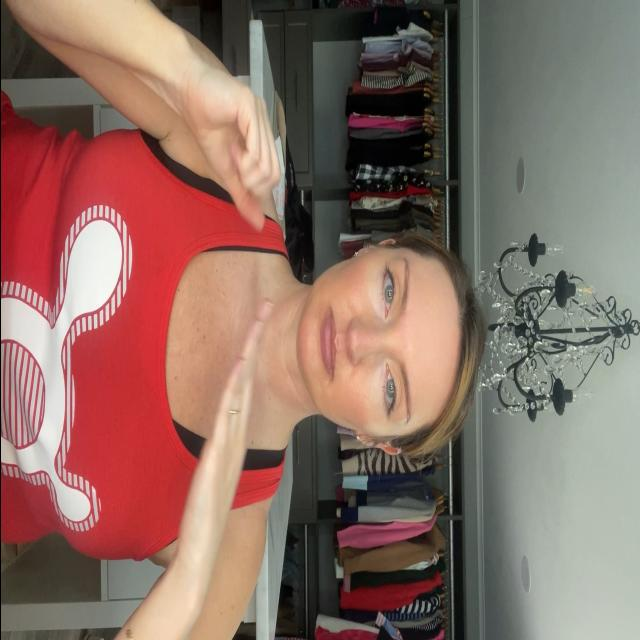Paper: (165, 314, 265, 576)
Rock: (184, 75, 279, 226)
